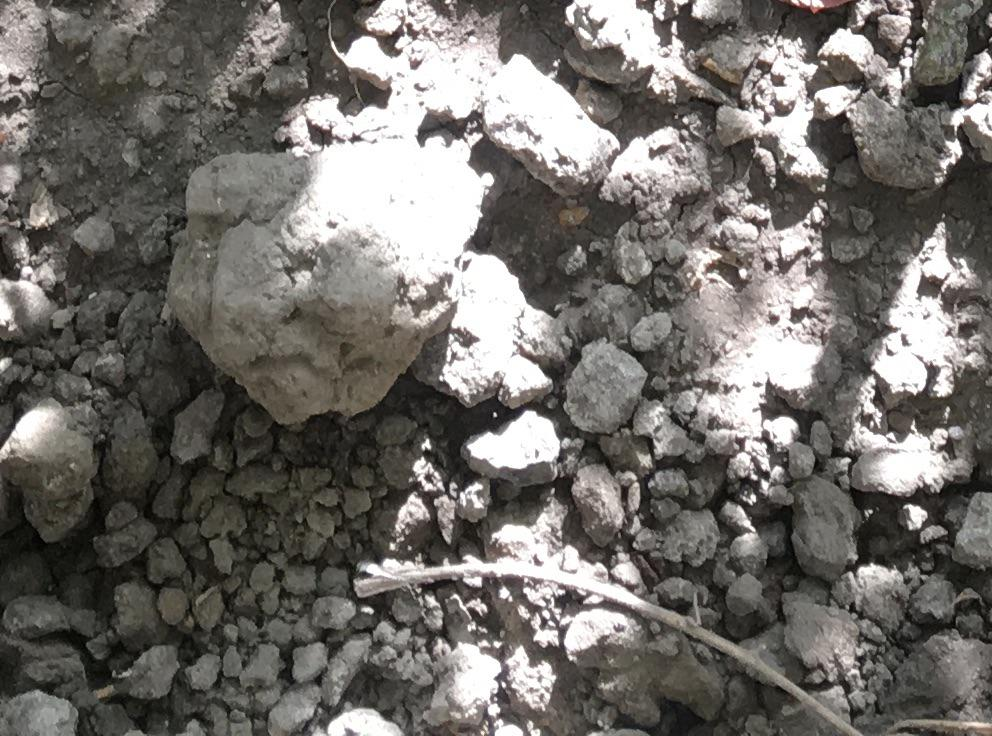block: (164, 143, 485, 428)
